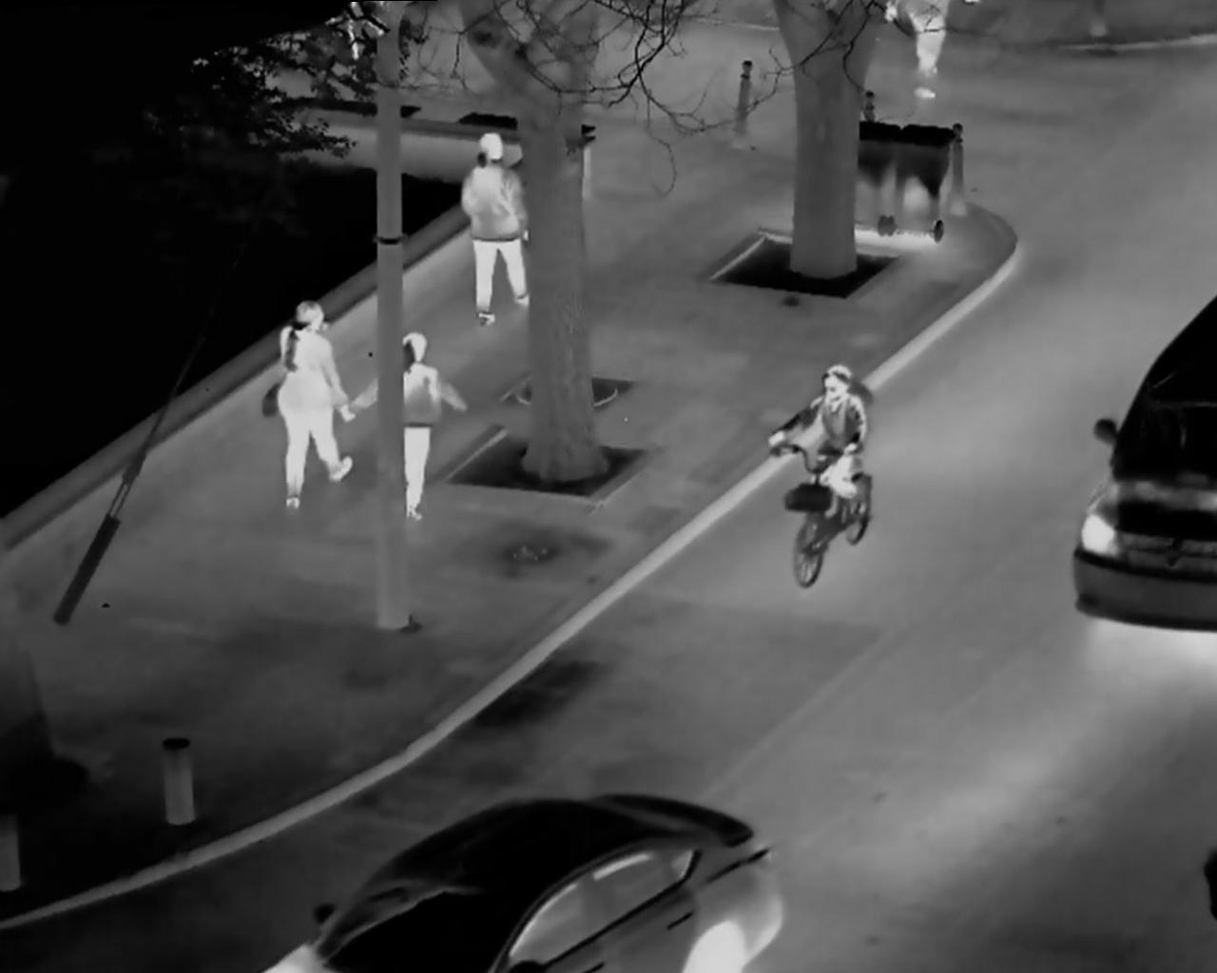person: (776, 347, 890, 593), (362, 318, 472, 541), (268, 282, 345, 527), (456, 113, 533, 329)
